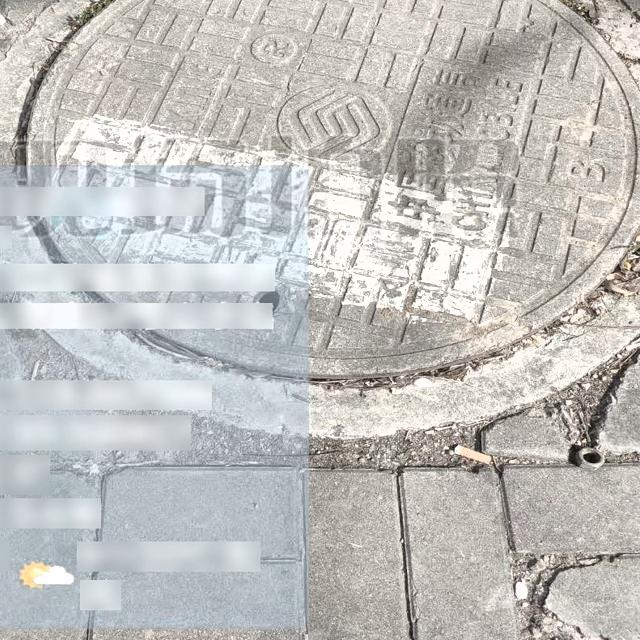circle: (4, 0, 640, 418)
